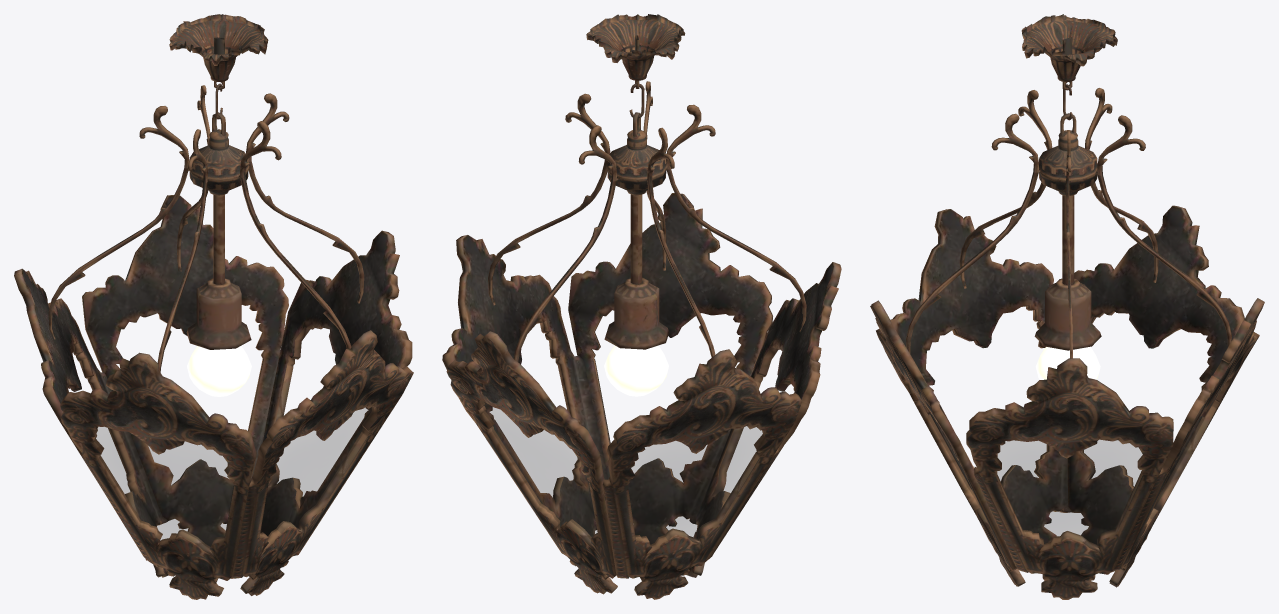
File: lantern_chandelier_01.glb
3 renders of one model, left to right at view 1: azimuth 30°, elevation 25°; view 2: azimuth 150°, elevation 25°; view 3: azimuth 270°, elevation 25°, orthographic.
Parts seen in each view (by area): view 1: lantern_chandelier_01; view 2: lantern_chandelier_01; view 3: lantern_chandelier_01.
Boxes of the visible parts, <box> form: lantern_chandelier_01: <box>14,14,413,599</box>; lantern_chandelier_01: <box>442,14,841,599</box>; lantern_chandelier_01: <box>870,14,1264,599</box>.
Bounding box in the file's own units: 0.5792 × 0.8776 × 0.5746.
3 materials, 2 textured.
